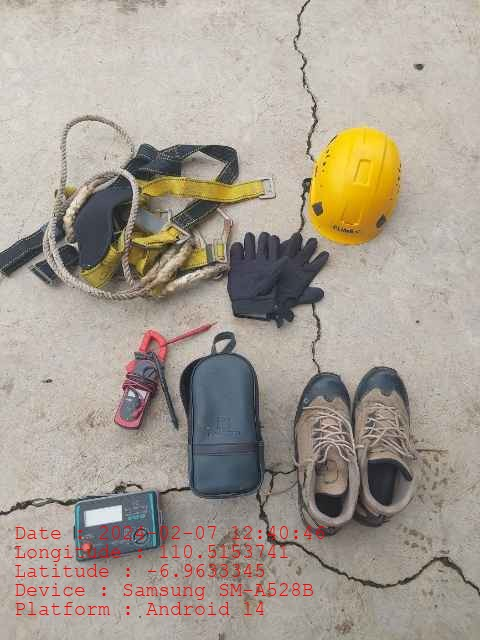HELM: (310, 128, 400, 244)
SARUNG_TANGAN: (224, 232, 286, 319)
SEPATU: (293, 369, 414, 528)
TAMBANG_SLING: (41, 113, 228, 302)
